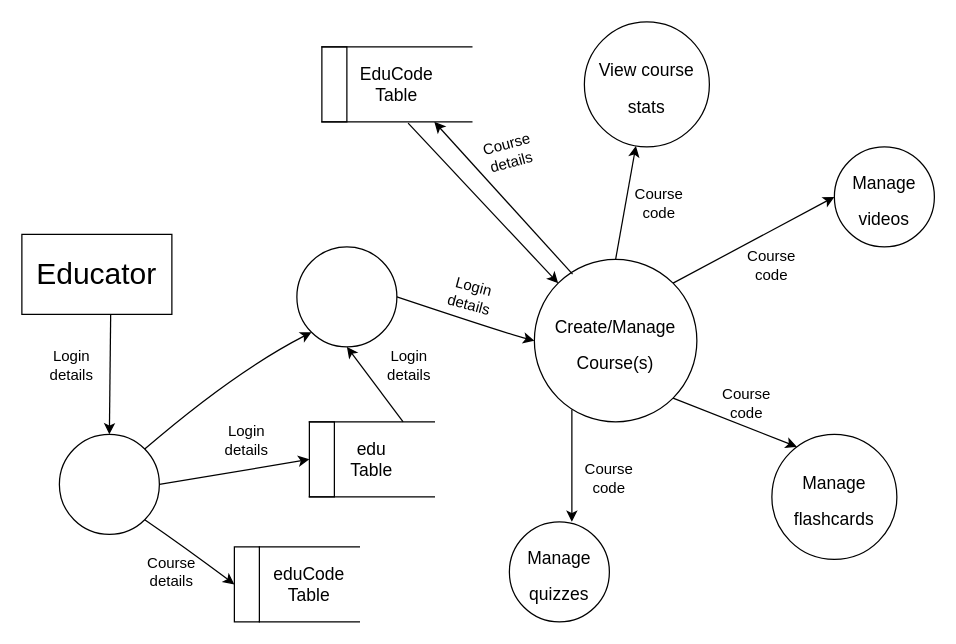
Some shapes in this 956 by 644 pixel diagram are drawn without their labels. The centre of each missing label's shape, as x and y in pixels:
Login: point 346,296
Register: point 108,483
